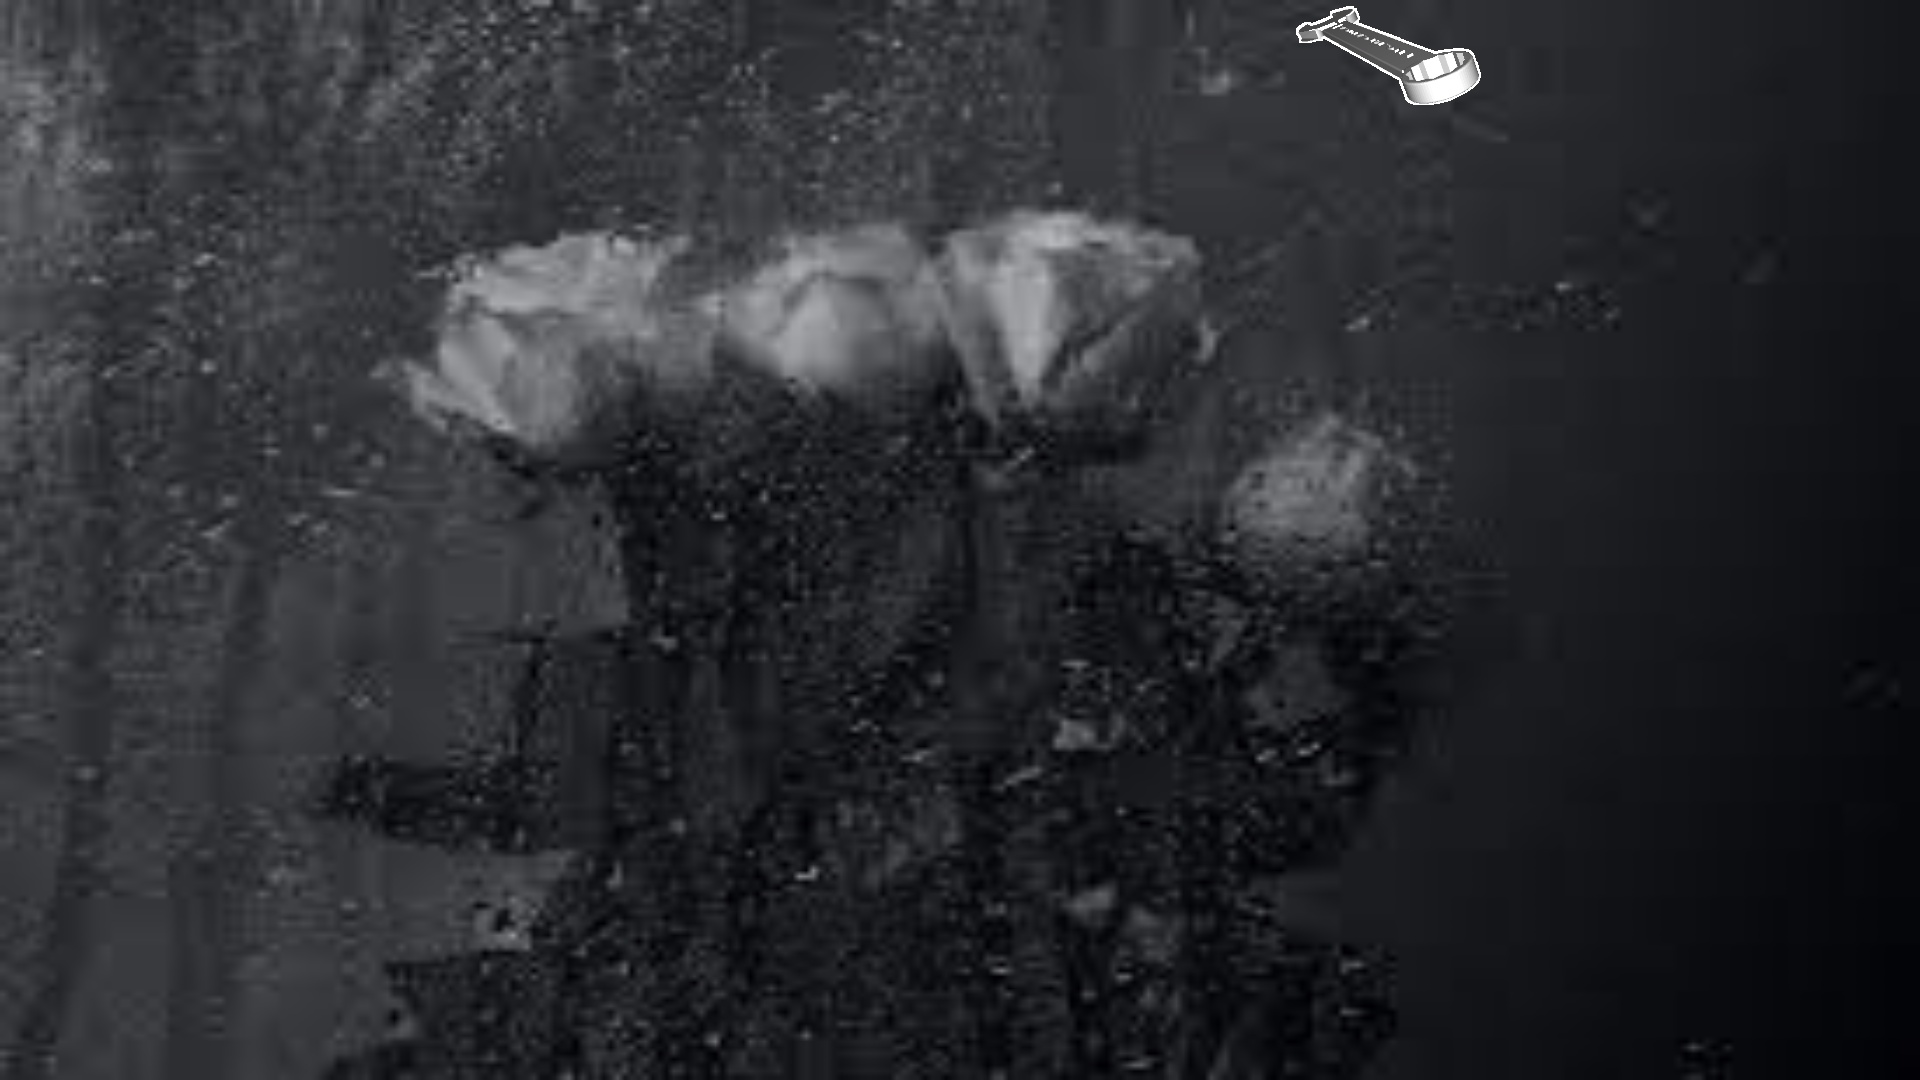Mixed Key: (1296, 7, 1480, 104)
